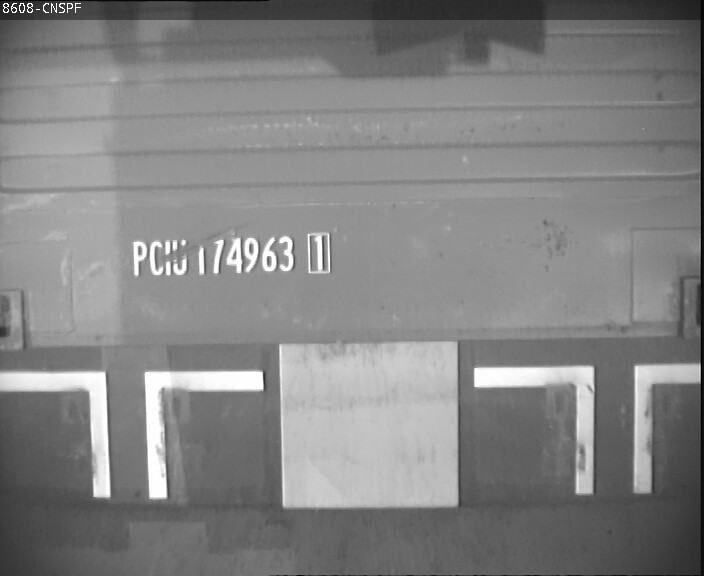groundmarker_1: (3, 369, 262, 501), (474, 362, 704, 495)
